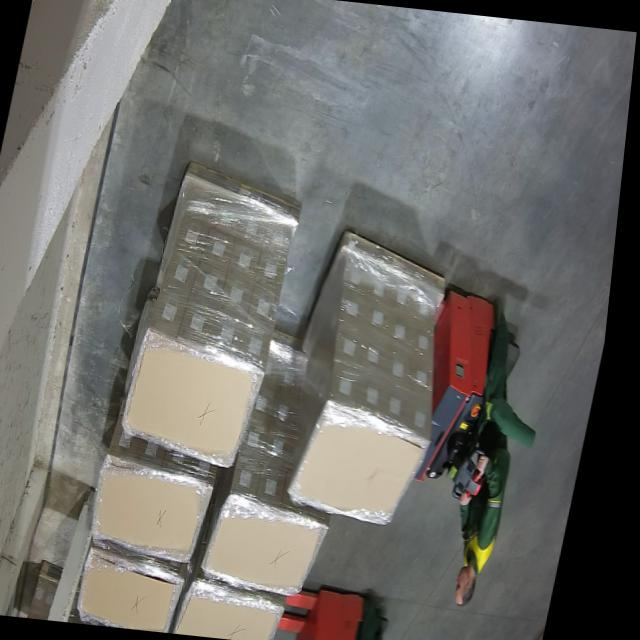pallet: (131, 327, 274, 466), (297, 400, 438, 525), (213, 499, 336, 598), (104, 463, 222, 564), (86, 550, 192, 633), (186, 584, 299, 640)
worker: (386, 266, 592, 628)
